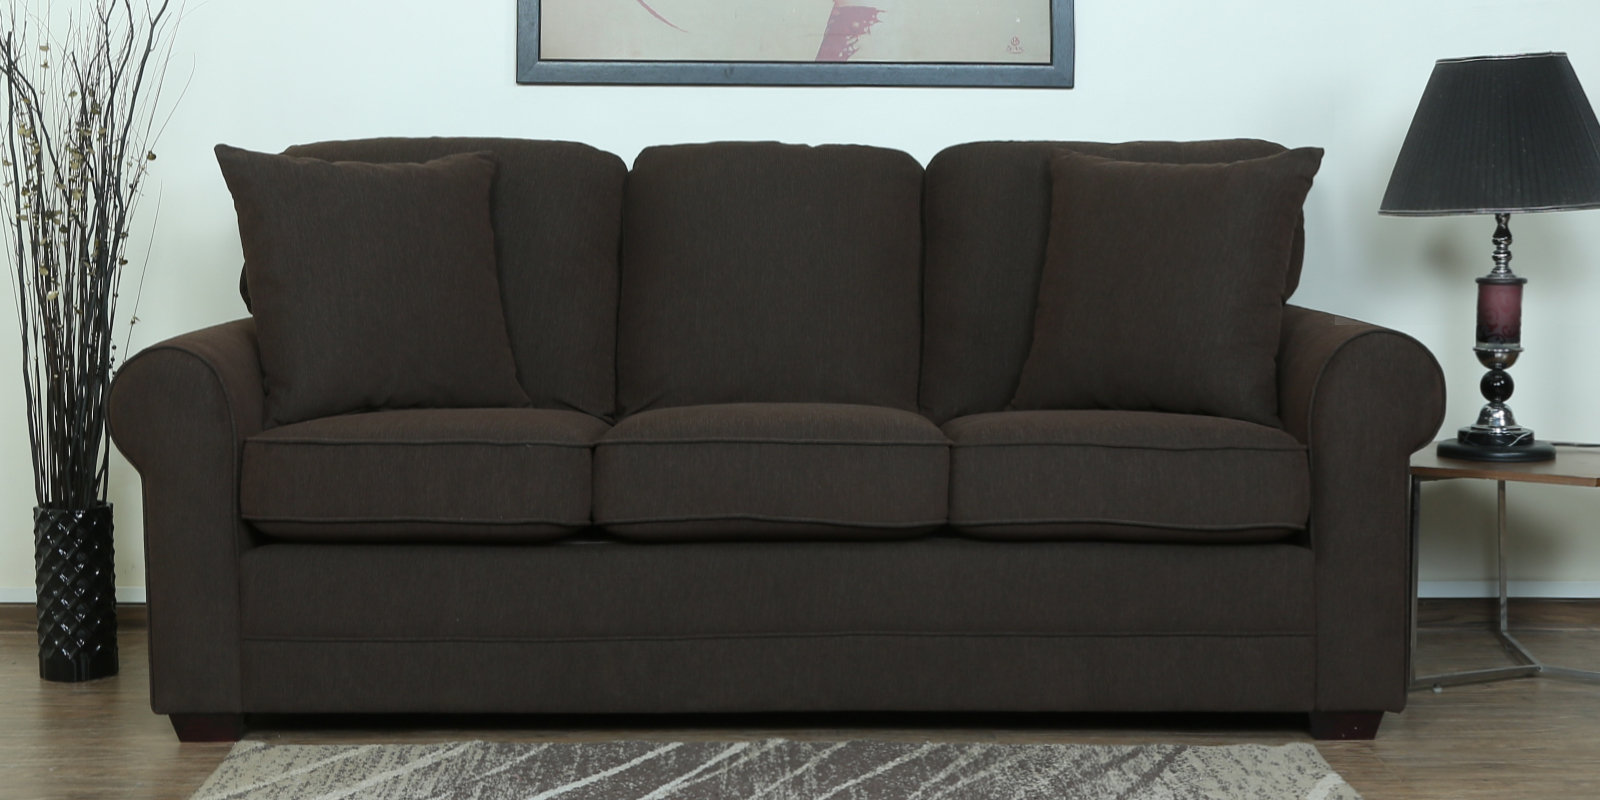Madeira Three Seater Sofa in Chestnut Brown Colour by CasaCraft: (103, 134, 1451, 742)
